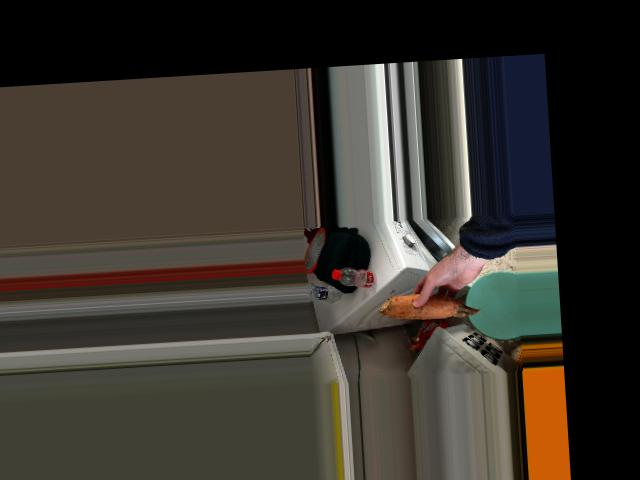sweet_potato: (385, 286, 473, 323)
